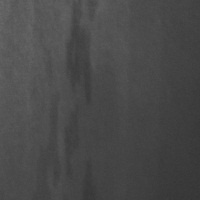inclusion: (63, 1, 97, 189), (27, 18, 61, 199), (77, 152, 101, 199)
